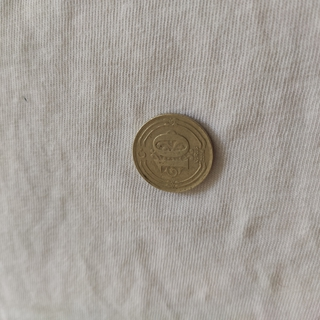10KURUS: (130, 112, 216, 194)
